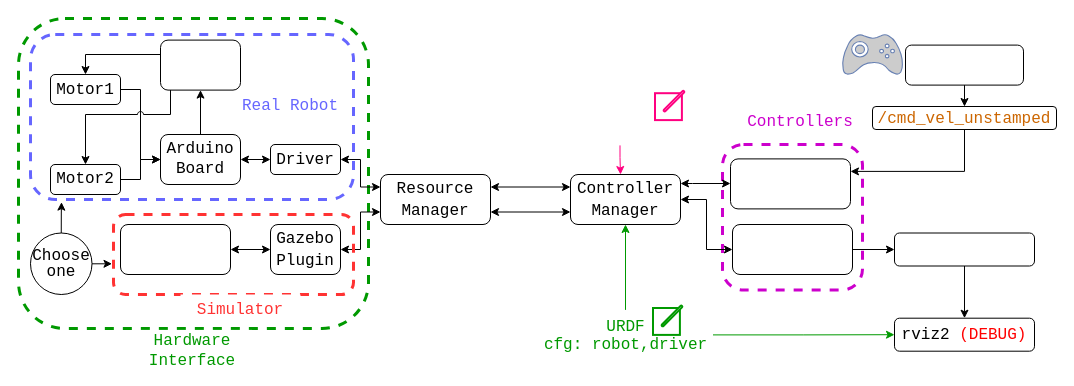
Image size: 1074x386. Some labels were removed from this diagram. Here are the shapes that lost their labels. From the top down, the box of each, then its label:
(160, 39, 240, 90): Driver Module
(904, 44, 1024, 85): Keyboard or JoyStick
(532, 95, 707, 145): Yaml cfg: controller
(730, 158, 850, 209): DiffDrive Controller
(120, 224, 230, 274): Gazebo Simulator
(732, 224, 852, 274): JointState Broadcaster
(894, 232, 1034, 266): /joint_states
